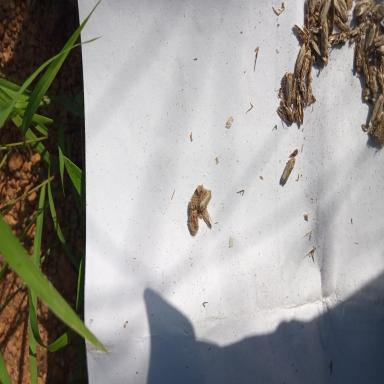pbw: (349, 17, 368, 44), (370, 93, 384, 125), (310, 39, 327, 65), (278, 98, 294, 124), (282, 156, 296, 185), (364, 22, 376, 55), (296, 74, 307, 107), (296, 42, 306, 76), (334, 0, 348, 24), (294, 23, 310, 44), (354, 40, 364, 73), (198, 189, 212, 212), (301, 49, 311, 80), (295, 90, 304, 124), (353, 0, 371, 17), (334, 14, 350, 33), (328, 31, 349, 45), (284, 72, 292, 108), (369, 65, 378, 97), (313, 34, 332, 49), (321, 19, 328, 58), (312, 10, 330, 25), (370, 24, 379, 54), (362, 55, 370, 88), (309, 22, 330, 34), (377, 68, 384, 96), (291, 73, 297, 105), (374, 35, 384, 46)
